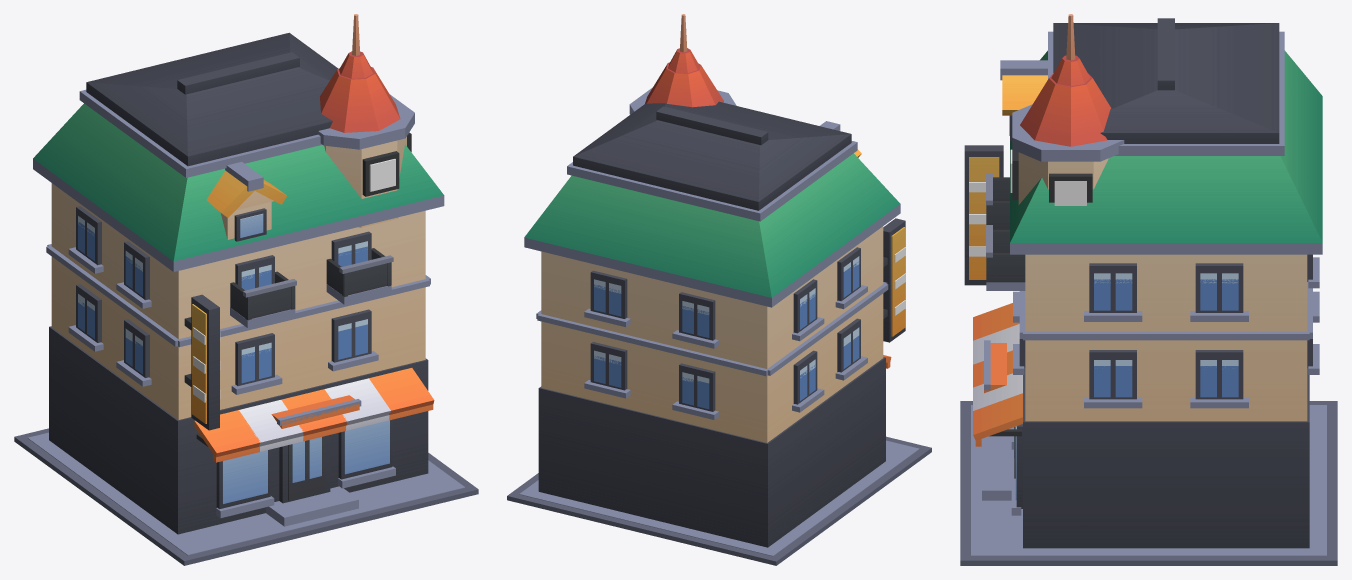
Rendered from com_boutique_giftshop_1x1.glb.
3 views of the same model, side by side, from view 1: azimuth 30°, elevation 25°; view 2: azimuth 150°, elevation 25°; view 3: azimuth 270°, elevation 25° (orthographic). The views are drawn at different scales.
Visible parts, largest first — view 1: com_boutique_giftshop_1x1; view 2: com_boutique_giftshop_1x1; view 3: com_boutique_giftshop_1x1.
Boxes of the visible parts, box(x1,y1,x2,y2) form: com_boutique_giftshop_1x1: box(14, 14, 478, 565); com_boutique_giftshop_1x1: box(507, 14, 931, 565); com_boutique_giftshop_1x1: box(960, 14, 1337, 565).
Bounding box in the file's own units: 1.74 × 2.6 × 1.74.
Materials: 1 (1 with a texture image).
